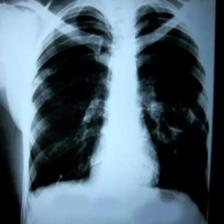tuberculosis: (21, 0, 215, 223)
